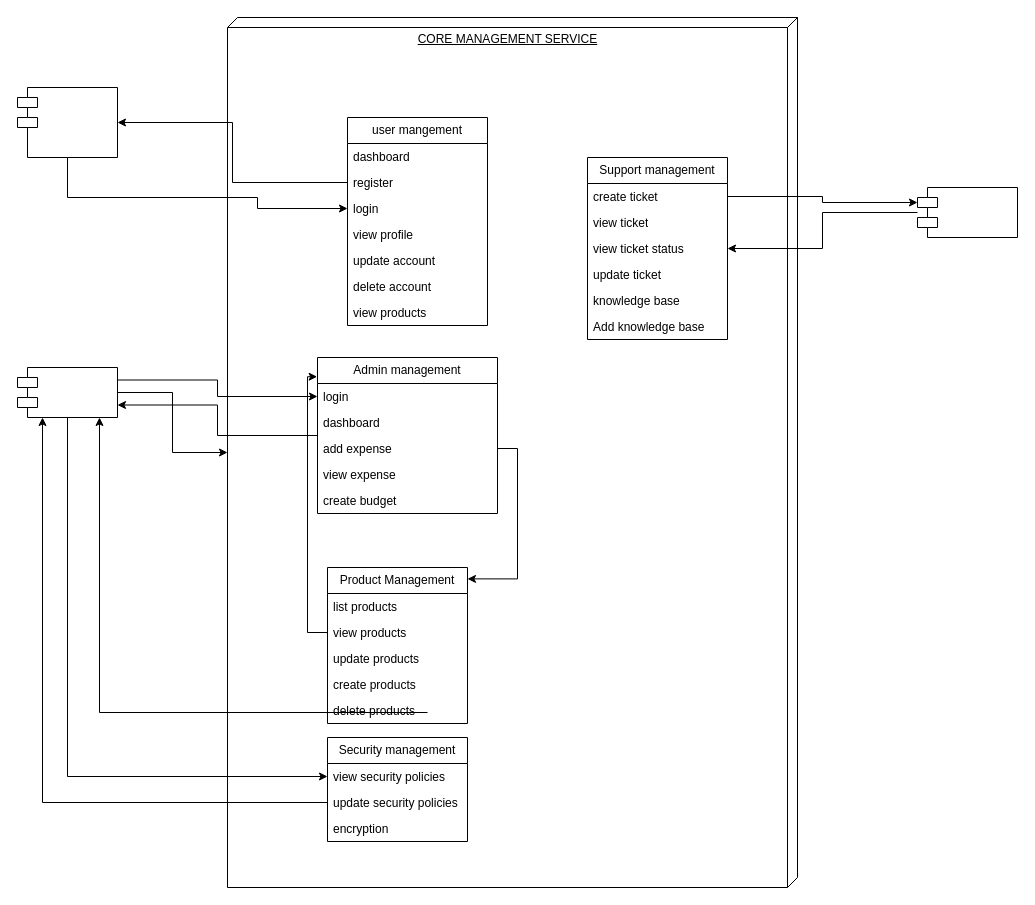
This 1035x905 diagram has some shape labels left out. Each missing label, with the centre of its shape:
Admin: [67,392]
Support Staff: [967,212]
User: [67,122]
